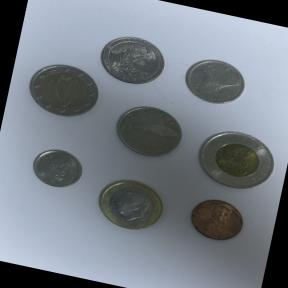coin: (184, 116, 286, 204), (84, 168, 175, 242), (104, 93, 191, 168), (20, 55, 104, 126), (92, 29, 170, 92), (175, 188, 249, 250), (23, 139, 90, 196)
